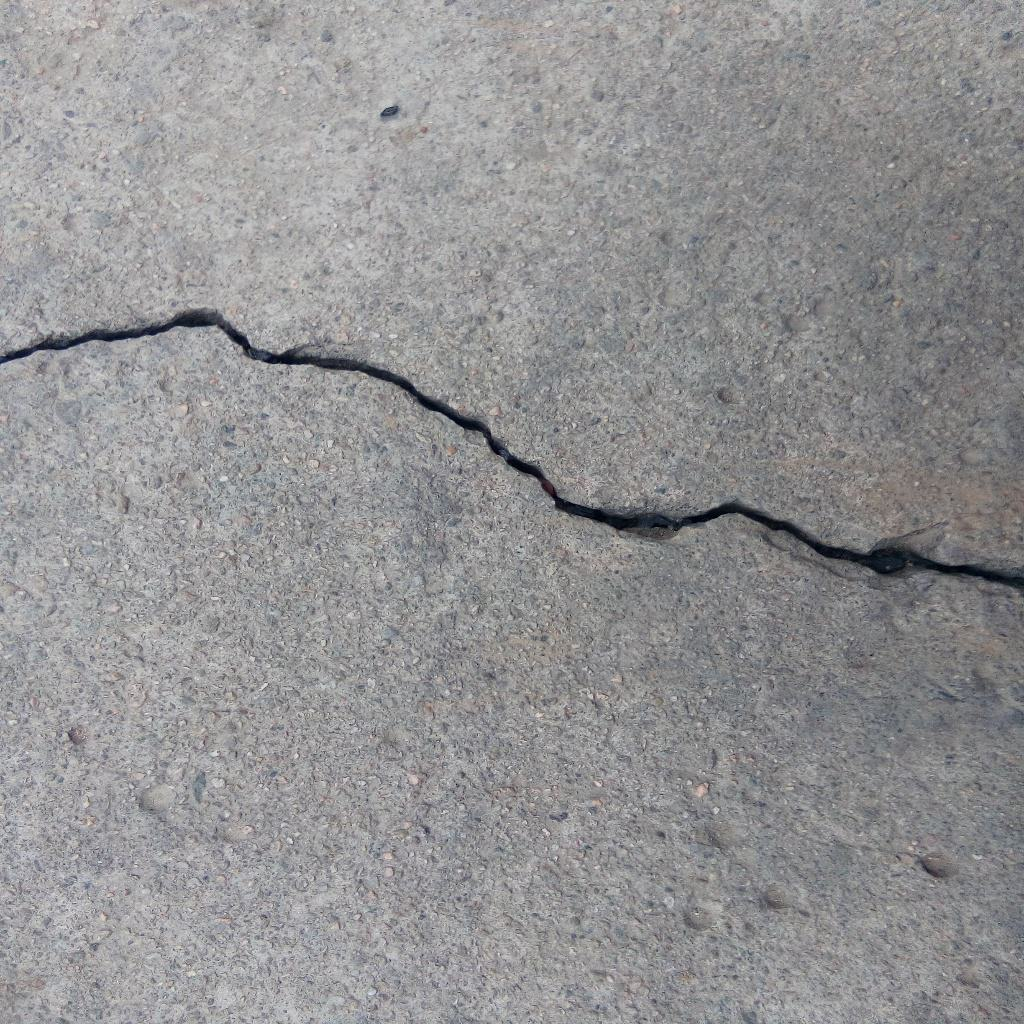Crack: (1, 306, 1024, 595)
